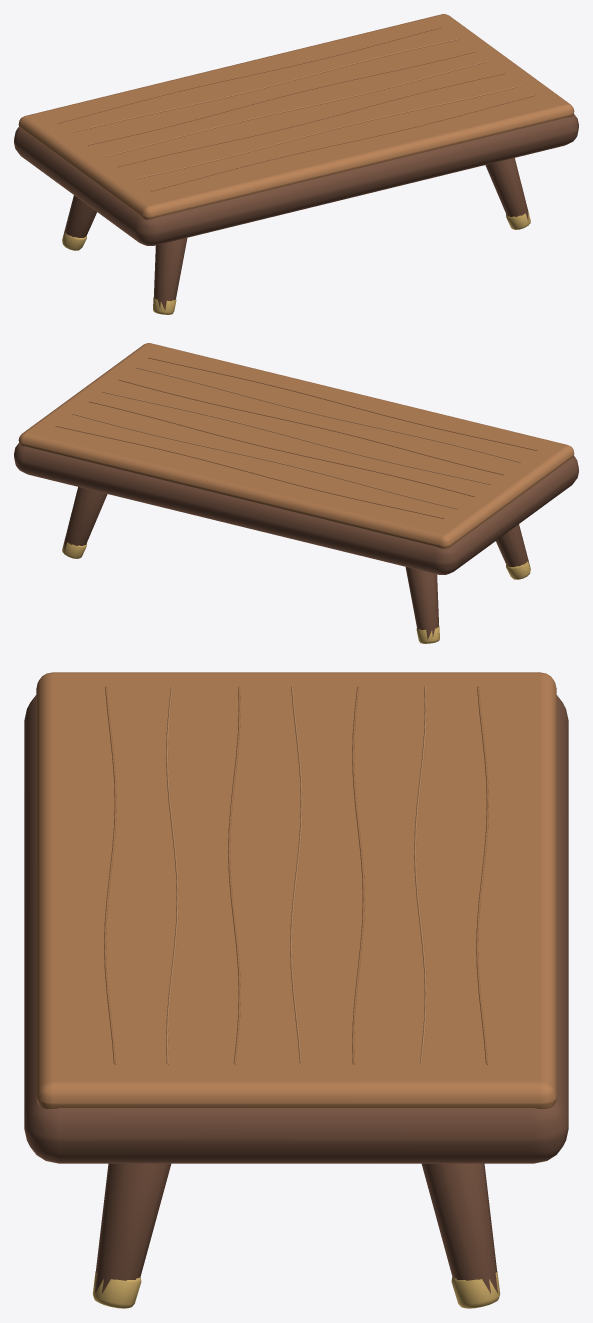
Rendered from living_coffee_table.glb.
The picture shows the model from 3 angles, top to bottom: view 1: azimuth 30°, elevation 25°; view 2: azimuth 150°, elevation 25°; view 3: azimuth 270°, elevation 25°; orthographic projection. The views are drawn at different scales.
Parts seen in each view (by area): view 1: Coffee table honey oak surface, Coffee table sculpted walnut lip, Coffee table splayed leg.001, Coffee table splayed leg.003, Coffee table splayed leg, Oak grain 04, Oak grain 01, Oak grain 05, Oak grain 06, Oak grain 03, Oak grain 02, Oak grain 00; view 2: Coffee table honey oak surface, Coffee table sculpted walnut lip, Coffee table splayed leg, Coffee table splayed leg.002, Coffee table splayed leg.001, Oak grain 02, Oak grain 06, Oak grain 01, Oak grain 03, Oak grain 00, Oak grain 05, Oak grain 04; view 3: Coffee table honey oak surface, Coffee table sculpted walnut lip, Coffee table splayed leg.002, Coffee table splayed leg.003, Coffee table brass shoe.002, Coffee table brass shoe.003, Oak grain 05, Oak grain 01, Oak grain 02, Oak grain 04, Oak grain 03, Oak grain 06 (+1 smaller).
Part boxes in pixels (left/top/right/bottom): Coffee table honey oak surface: left=18, top=14, right=574, bottom=219; Coffee table sculpted walnut lip: left=14, top=114, right=578, bottom=245; Coffee table splayed leg.001: left=153, top=238, right=187, bottom=310; Coffee table splayed leg.003: left=485, top=158, right=528, bottom=220; Coffee table splayed leg: left=63, top=195, right=96, bottom=237; Oak grain 04: left=117, top=73, right=505, bottom=167; Oak grain 01: left=71, top=39, right=458, bottom=133; Oak grain 05: left=134, top=85, right=521, bottom=179; Oak grain 06: left=150, top=95, right=535, bottom=191; Oak grain 03: left=104, top=61, right=488, bottom=157; Oak grain 02: left=87, top=51, right=475, bottom=145; Oak grain 00: left=57, top=27, right=442, bottom=123; Coffee table honey oak surface: left=18, top=343, right=574, bottom=548; Coffee table sculpted walnut lip: left=14, top=443, right=578, bottom=574; Coffee table splayed leg: left=405, top=567, right=439, bottom=639; Coffee table splayed leg.002: left=64, top=487, right=107, bottom=549; Coffee table splayed leg.001: left=496, top=524, right=529, bottom=566; Oak grain 02: left=88, top=401, right=474, bottom=496; Oak grain 06: left=148, top=357, right=537, bottom=450; Oak grain 01: left=72, top=413, right=457, bottom=509; Oak grain 03: left=102, top=391, right=490, bottom=484; Oak grain 00: left=55, top=425, right=444, bottom=518; Oak grain 05: left=135, top=367, right=520, bottom=462; Oak grain 04: left=118, top=379, right=504, bottom=475; Coffee table honey oak surface: left=36, top=672, right=556, bottom=1108; Coffee table sculpted walnut lip: left=24, top=695, right=568, bottom=1163; Coffee table splayed leg.002: left=421, top=1163, right=497, bottom=1293; Coffee table splayed leg.003: left=95, top=1163, right=171, bottom=1293; Coffee table brass shoe.002: left=451, top=1271, right=500, bottom=1308; Coffee table brass shoe.003: left=92, top=1271, right=141, bottom=1308; Oak grain 05: left=166, top=686, right=178, bottom=1065; Oak grain 01: left=414, top=686, right=426, bottom=1065; Oak grain 02: left=352, top=686, right=364, bottom=1065; Oak grain 04: left=228, top=686, right=240, bottom=1065; Oak grain 03: left=290, top=686, right=302, bottom=1064; Oak grain 06: left=104, top=686, right=116, bottom=1065.
Size of the model in its own units: 1.35 by 0.3782 by 0.72.
